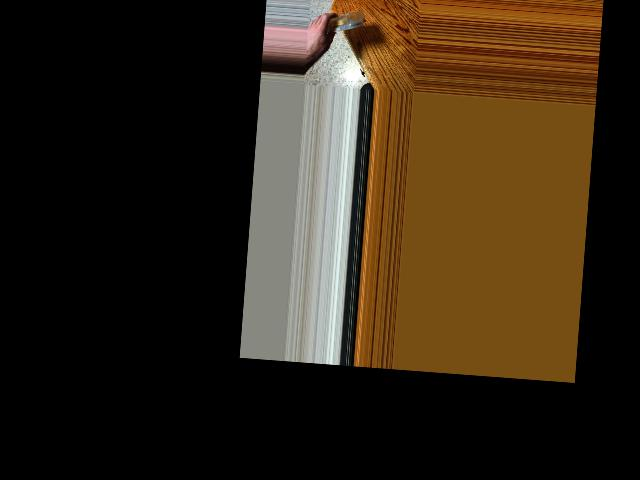cheese: (326, 5, 360, 36)
